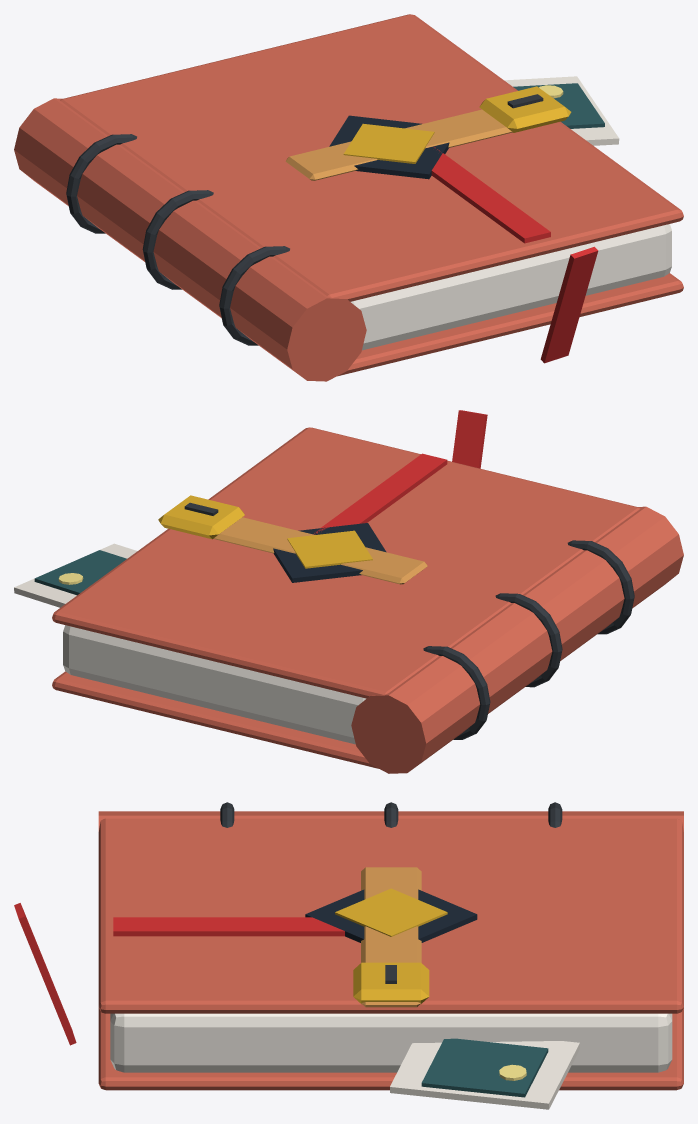
The model's file is Collectible_OldNotebook.glb.
3 renders of one model, top to bottom at view 1: azimuth 30°, elevation 25°; view 2: azimuth 150°, elevation 25°; view 3: azimuth 270°, elevation 25°, orthographic. The views are drawn at different scales.
Visible parts, largest first — view 1: Collectible_OldNotebook; view 2: Collectible_OldNotebook; view 3: Collectible_OldNotebook.
Boxes of the visible parts, x1,y1,x2,y2 form: Collectible_OldNotebook: (14, 14, 683, 381); Collectible_OldNotebook: (14, 410, 683, 773); Collectible_OldNotebook: (14, 802, 683, 1109).
Size of the model in its own units: 0.268 by 0.0621 by 0.2861.
